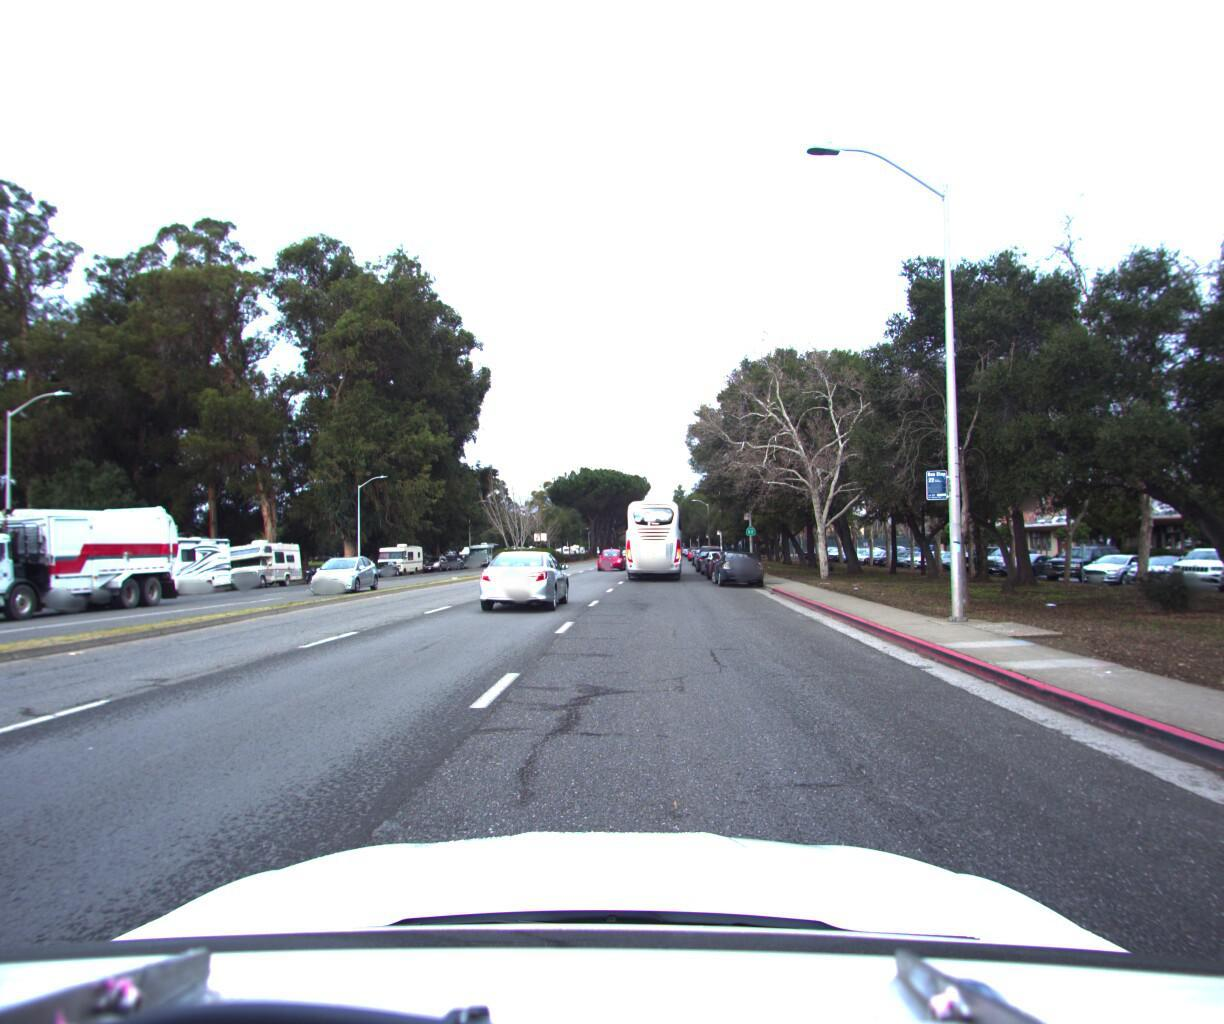bus: (619, 493, 689, 580)
car: (477, 543, 575, 610), (305, 548, 385, 592), (709, 541, 766, 583), (702, 542, 753, 577), (594, 542, 626, 567), (364, 555, 403, 575)
motorcycle: (300, 559, 322, 580)
other_vehicle: (98, 523, 241, 603), (215, 532, 307, 587), (373, 537, 426, 573)
truck: (0, 481, 195, 634)
